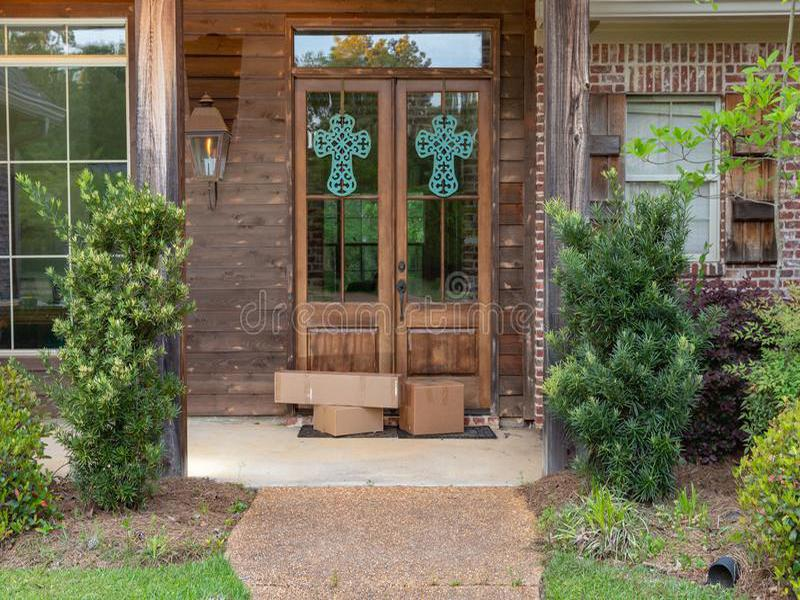package: (265, 361, 404, 414), (398, 372, 469, 441), (302, 403, 389, 443)
